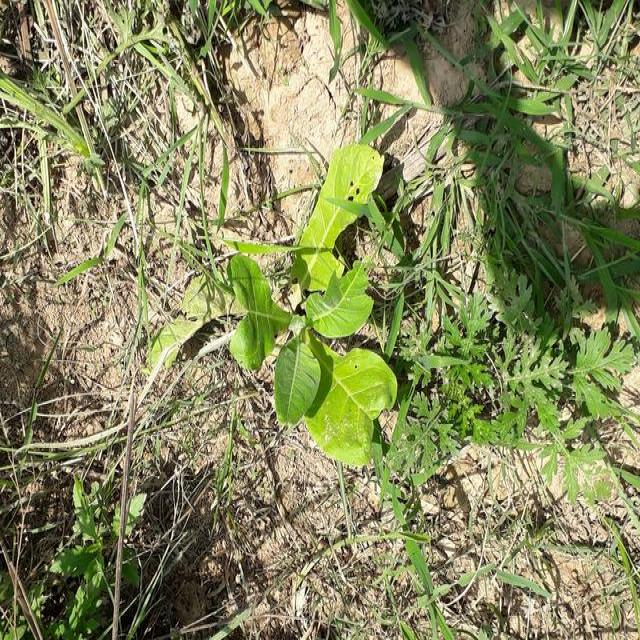crop: (230, 121, 400, 468)
